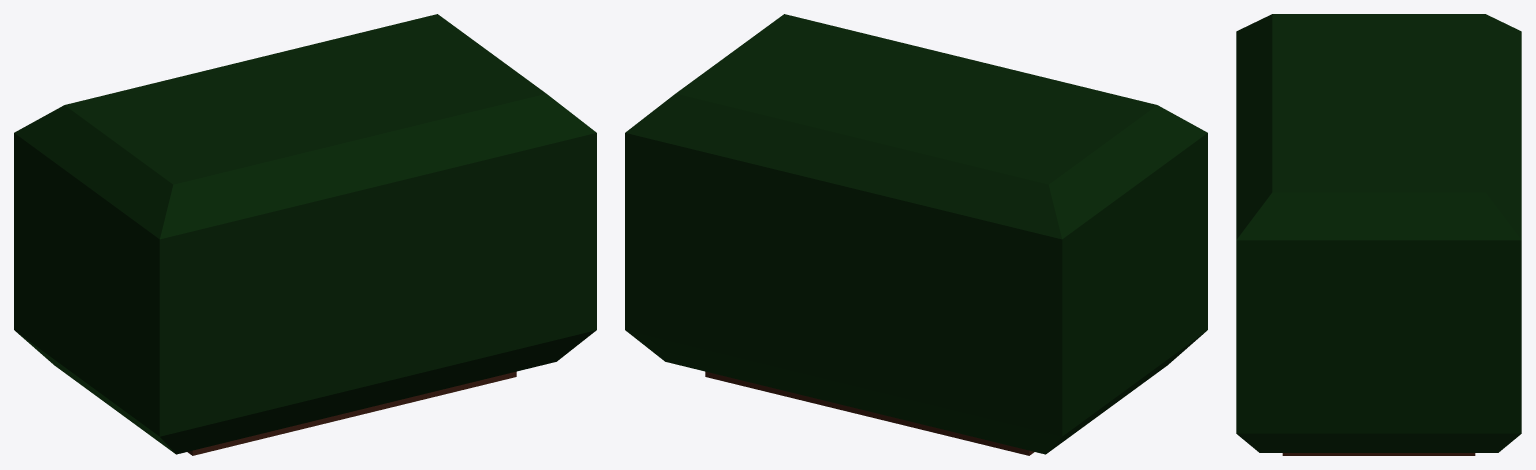
The model's file is Shrub.FBX.
3 views of the same model, side by side, from view 1: azimuth 30°, elevation 25°; view 2: azimuth 150°, elevation 25°; view 3: azimuth 270°, elevation 25° (orthographic). The views are drawn at different scales.
Visible parts, largest first — view 1: shrub; view 2: shrub; view 3: shrub.
Part boxes in pixels (x1,y1,x2,y2): shrub: [14, 14, 596, 455]; shrub: [625, 14, 1207, 455]; shrub: [1236, 14, 1521, 455].
Bounding box in the file's own units: 168 × 103 × 97.18.
